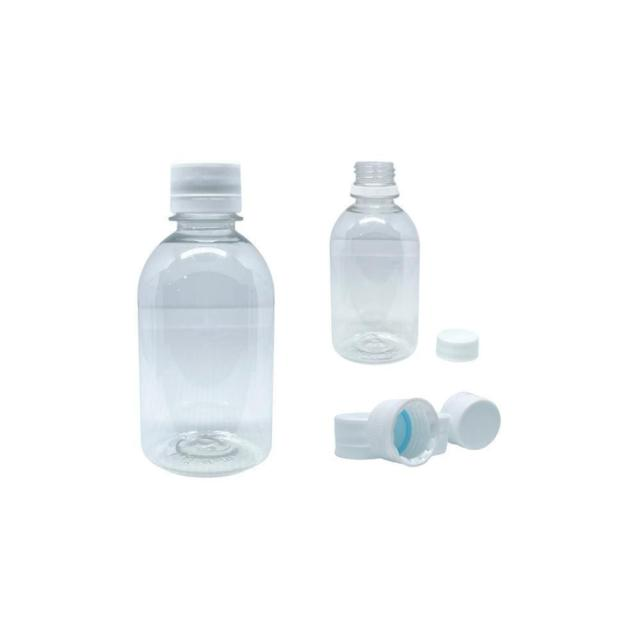bottle: (138, 162, 274, 476), (330, 161, 419, 364)
